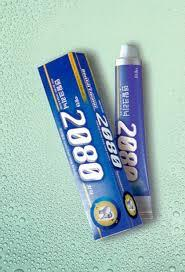toothpaste: (103, 39, 159, 222)
